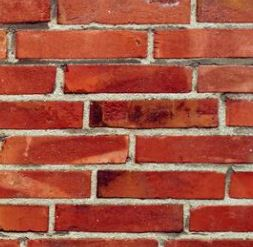brick: (53, 201, 186, 235), (1, 132, 131, 166), (95, 167, 227, 200), (13, 29, 148, 60), (63, 63, 194, 94), (89, 99, 221, 129), (134, 134, 253, 165), (56, 1, 192, 25), (151, 29, 253, 60), (1, 168, 92, 199), (1, 99, 85, 130), (188, 205, 253, 234), (1, 64, 58, 97), (197, 63, 253, 93), (1, 203, 51, 235), (197, 1, 253, 24), (1, 1, 53, 24)
